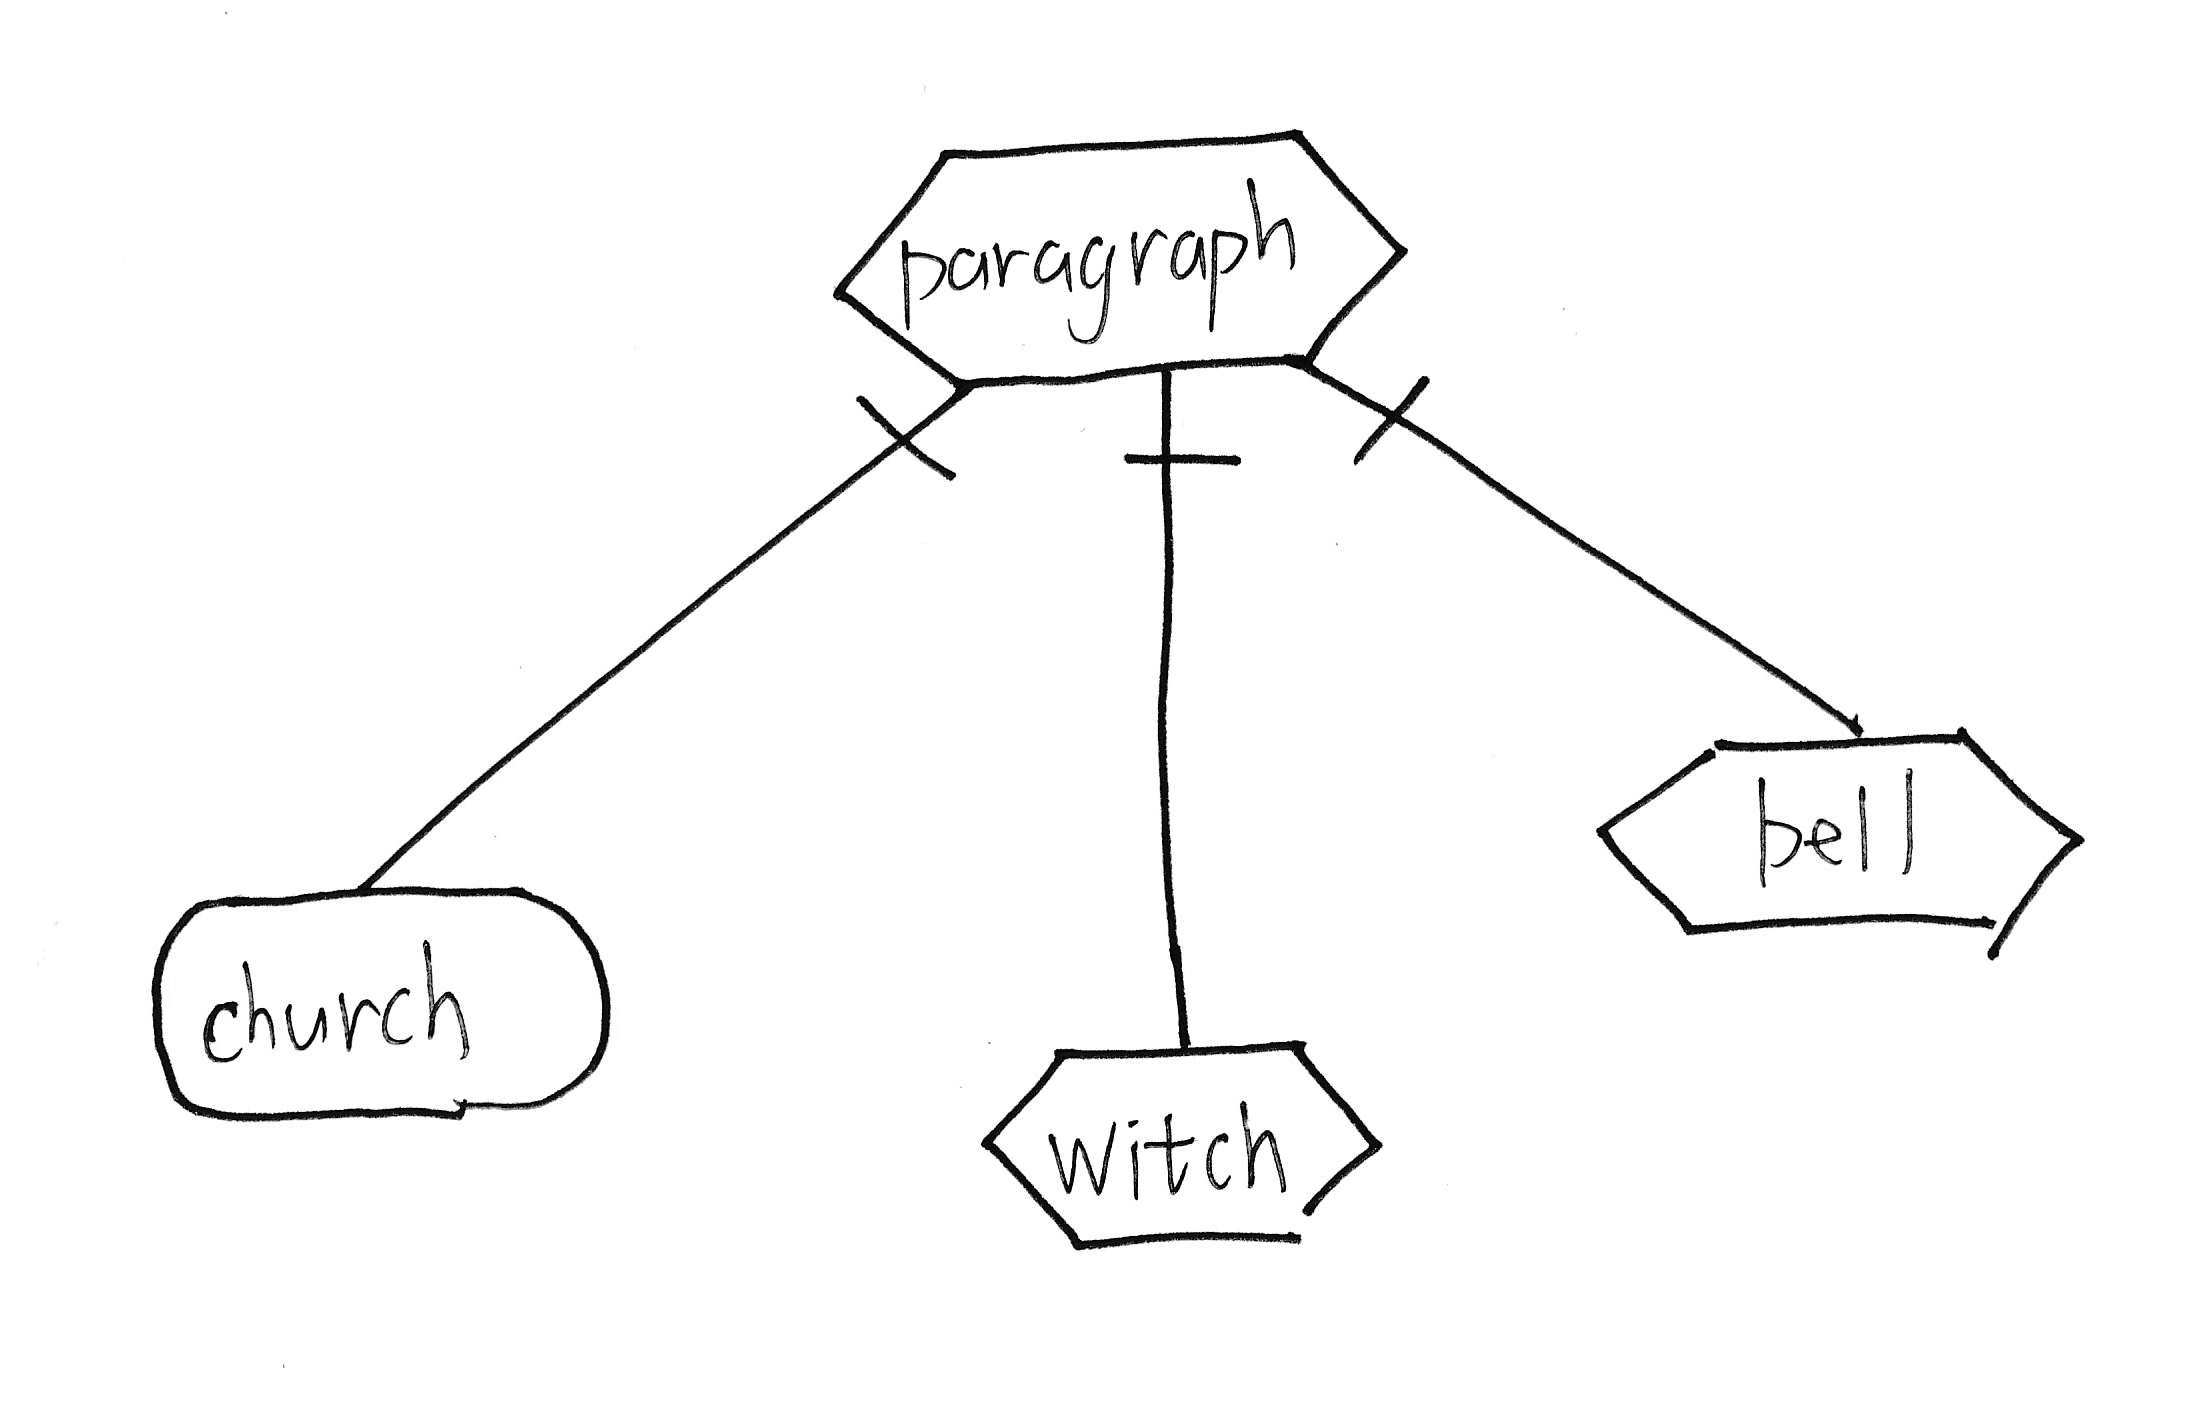and: (1110, 397, 1259, 505), (1317, 368, 1459, 481), (842, 384, 965, 503)
goal: (129, 870, 625, 1156)
task: (814, 103, 1422, 402), (1582, 715, 2108, 979), (969, 1029, 1396, 1262)
